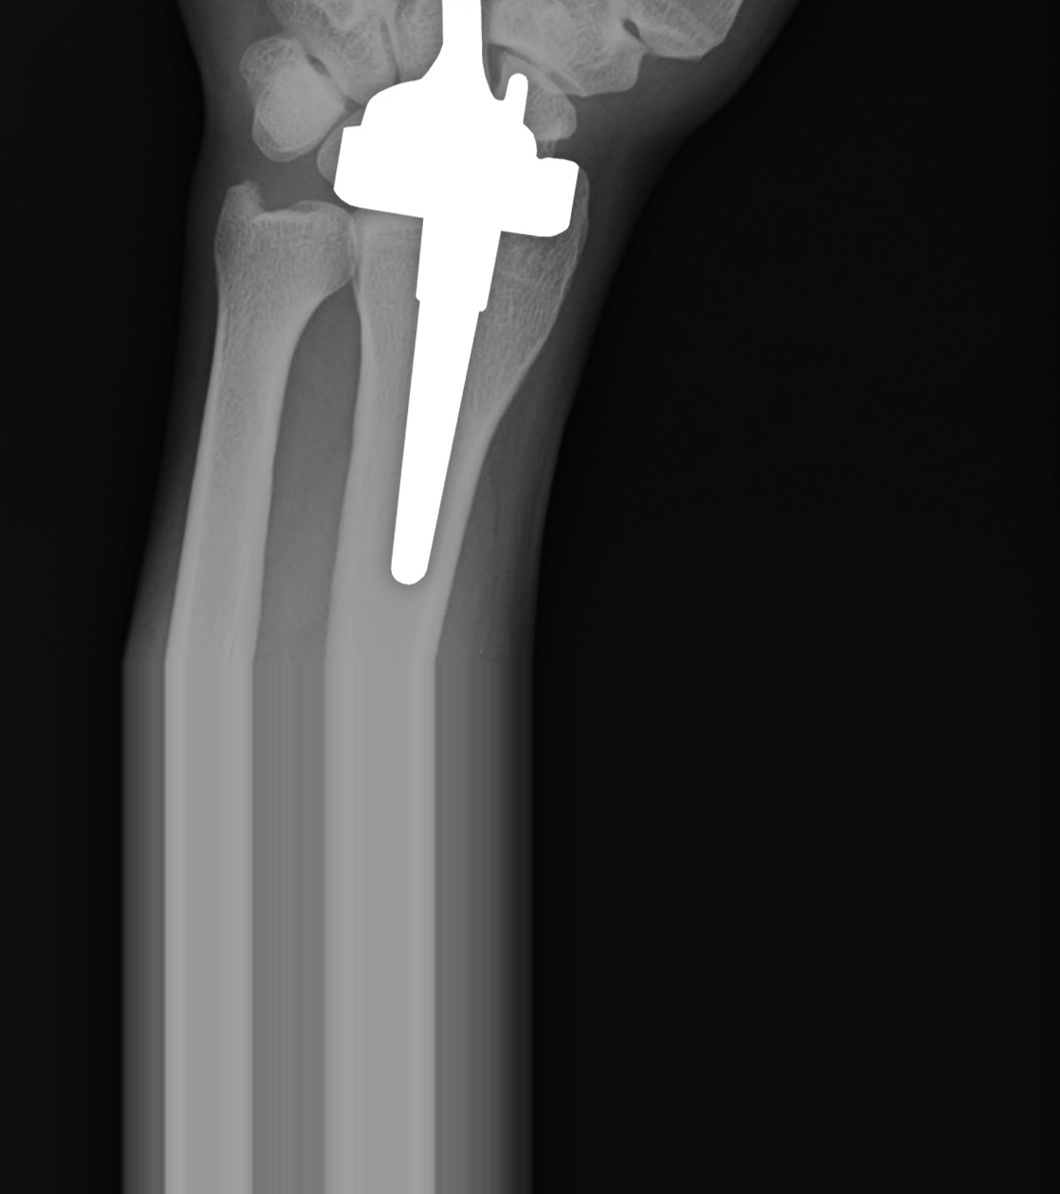Wrist-Biax-DePuuy: (291, 1, 583, 591)
